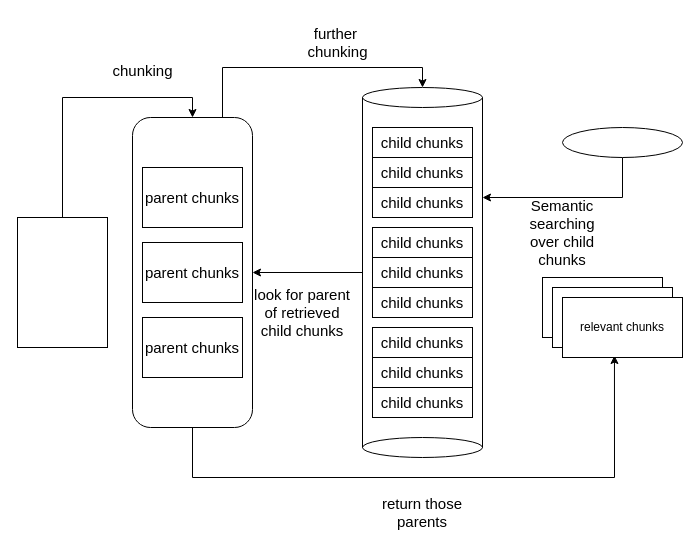
Image size: 700x554. Some labels were removed from this diagram. Here are the shapes that lost their labels. From the top down, the centre of each, then its label:
At point 622,142: "user query".
At point 62,282: "original document".
